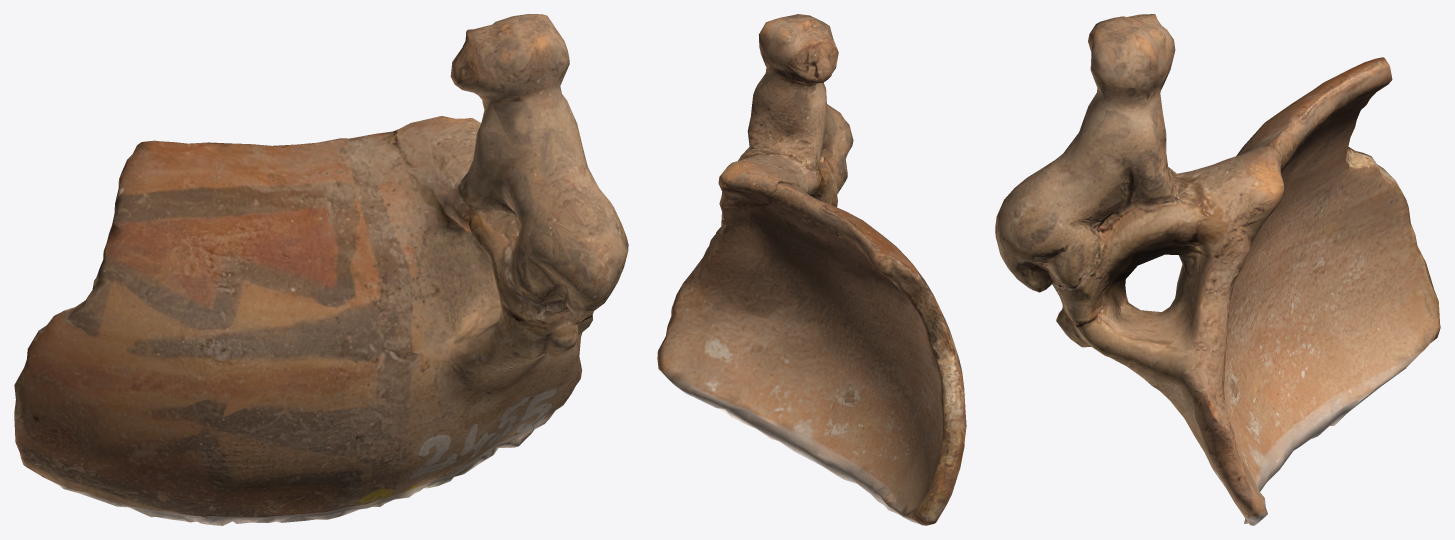
3 renders of one model, left to right at view 1: azimuth 30°, elevation 25°; view 2: azimuth 150°, elevation 25°; view 3: azimuth 270°, elevation 25°, orthographic. The views are drawn at different scales.
Parts seen in each view (by area): view 1: MA0622; view 2: MA0622; view 3: MA0622.
Part boxes in pixels (box(x1,y1,x2,y2)): MA0622: box(14, 14, 628, 525); MA0622: box(657, 14, 966, 525); MA0622: box(995, 14, 1440, 525).
Size of the model in its own units: 2.32 by 2.4 by 1.88.
1 material, 1 textured.
